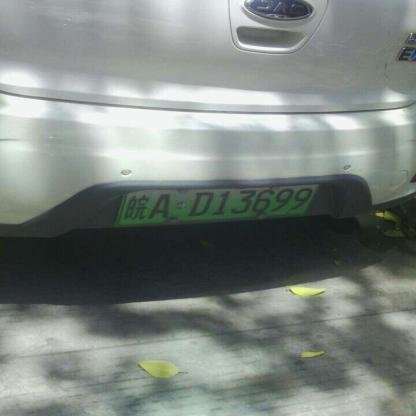lp: (119, 185, 320, 225)
